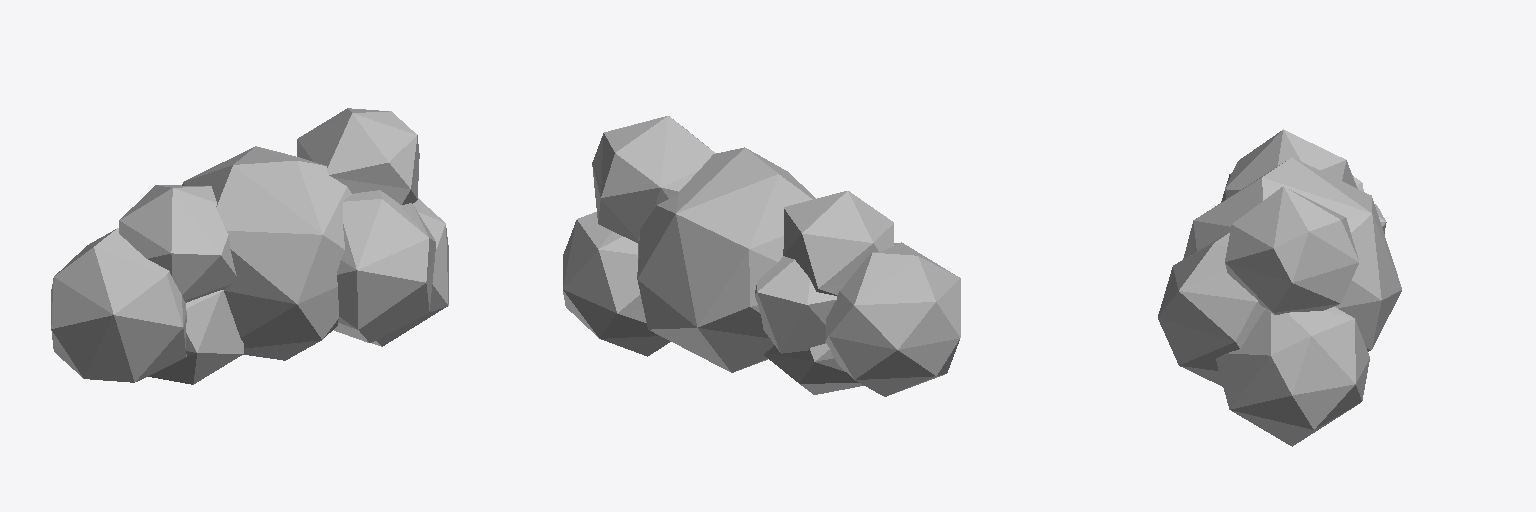
The picture shows the model from 3 angles: view 1: azimuth 30°, elevation 25°; view 2: azimuth 150°, elevation 25°; view 3: azimuth 270°, elevation 25°; orthographic projection.
Visible parts, largest first — view 1: Cloud_2_Icosphere.043; view 2: Cloud_2_Icosphere.043; view 3: Cloud_2_Icosphere.043.
Part boxes in pixels (x1,y1,x2,y2): Cloud_2_Icosphere.043: (51,108,448,384); Cloud_2_Icosphere.043: (563,116,960,396); Cloud_2_Icosphere.043: (1158,129,1401,446).
Bounding box in the file's own units: 4.14 × 2.35 × 2.21.
Materials: 1 (1 with a texture image).